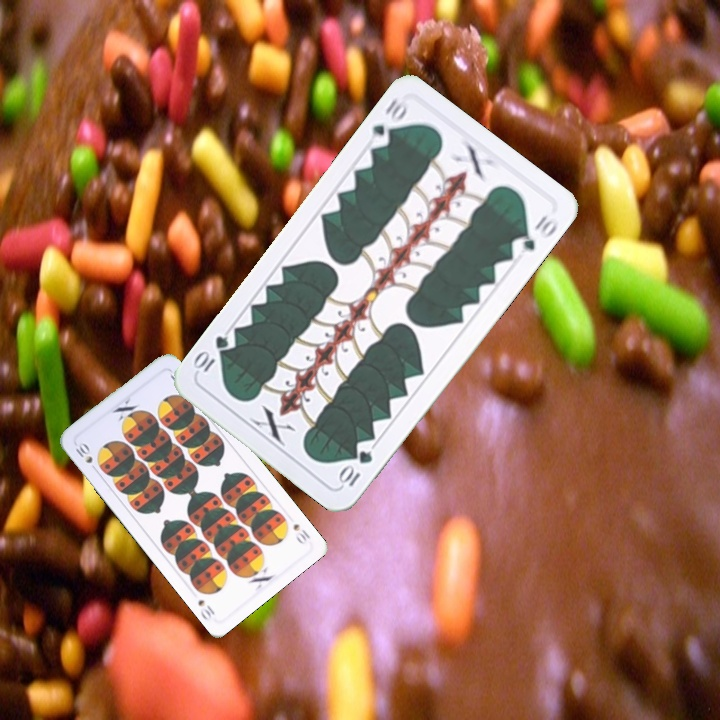G10: (368, 94, 410, 152), (334, 446, 376, 490)
S10: (71, 438, 100, 475), (289, 519, 313, 547)
